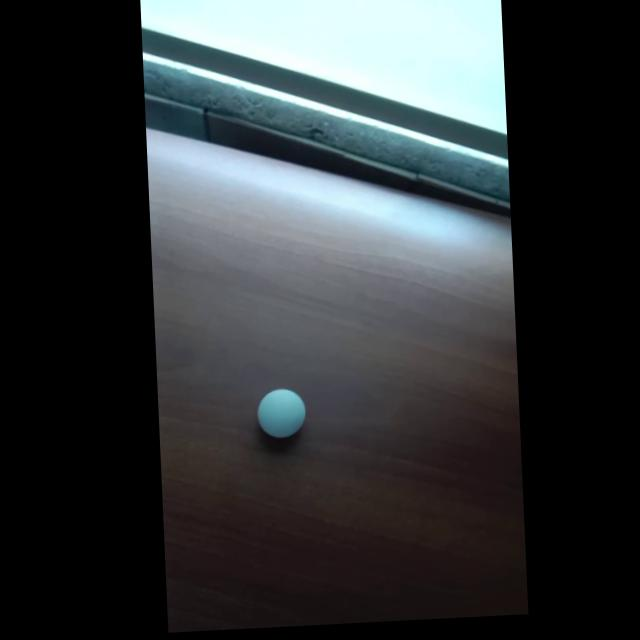white ball: (255, 387, 307, 440)
